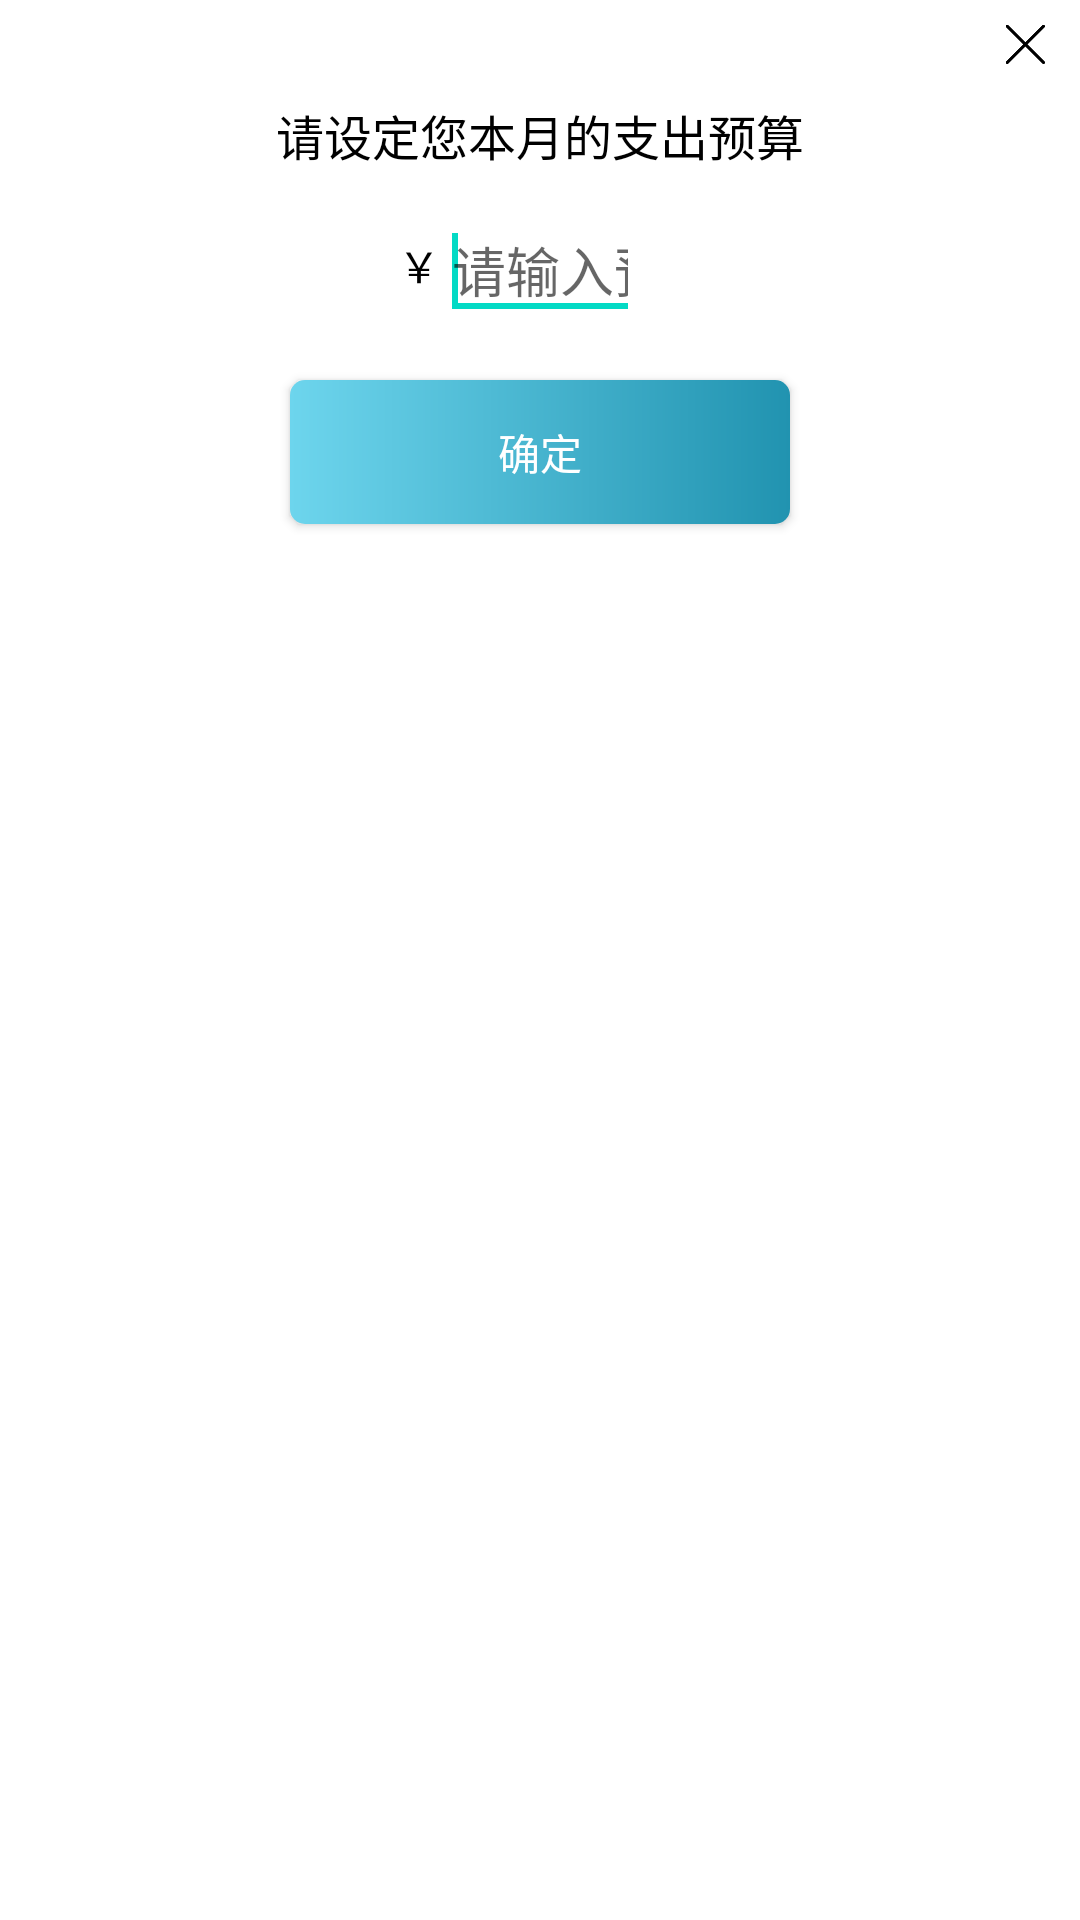

Screen size 1080px x 1920px. Icon name, then its box in pixels as (x1,y1,x2,y2):
close: (1006,25,1045,64)
